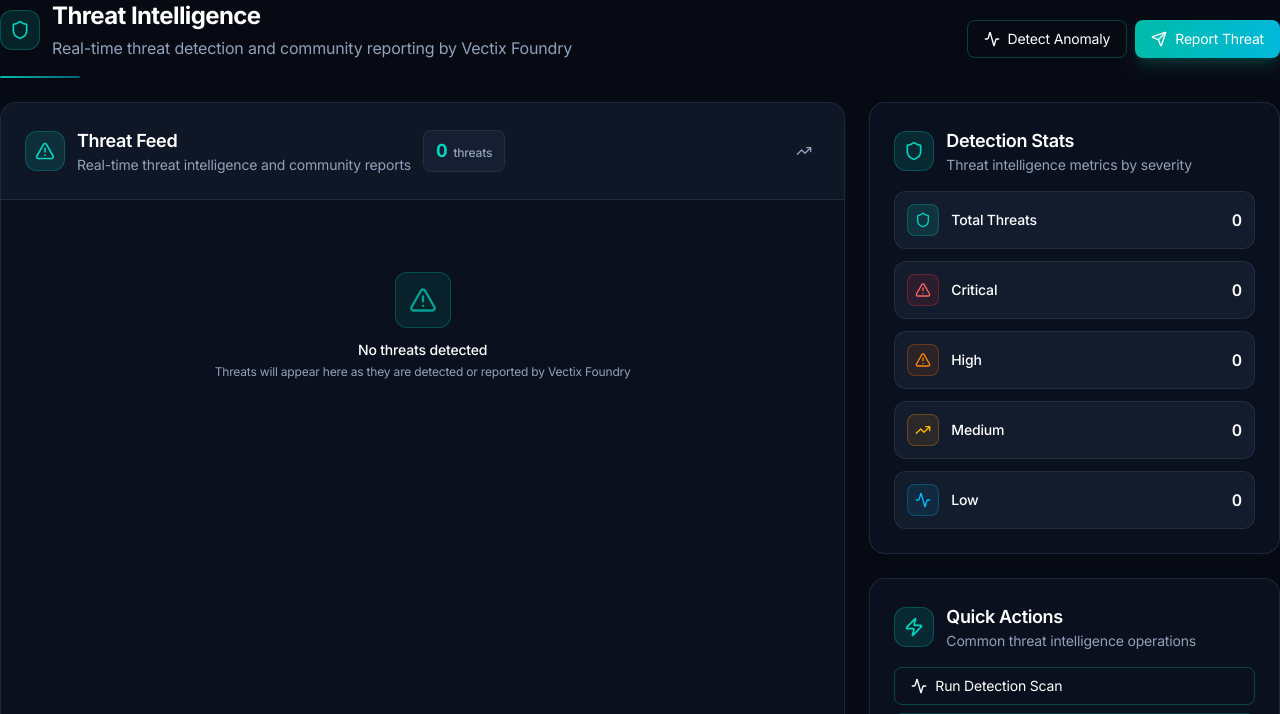
Test: ThreatIntelligencePage › displays no threat message when no anomaly is detected
Click the button "Detect Anomaly". click: (1047, 39)
box: [966,20,1127,58]
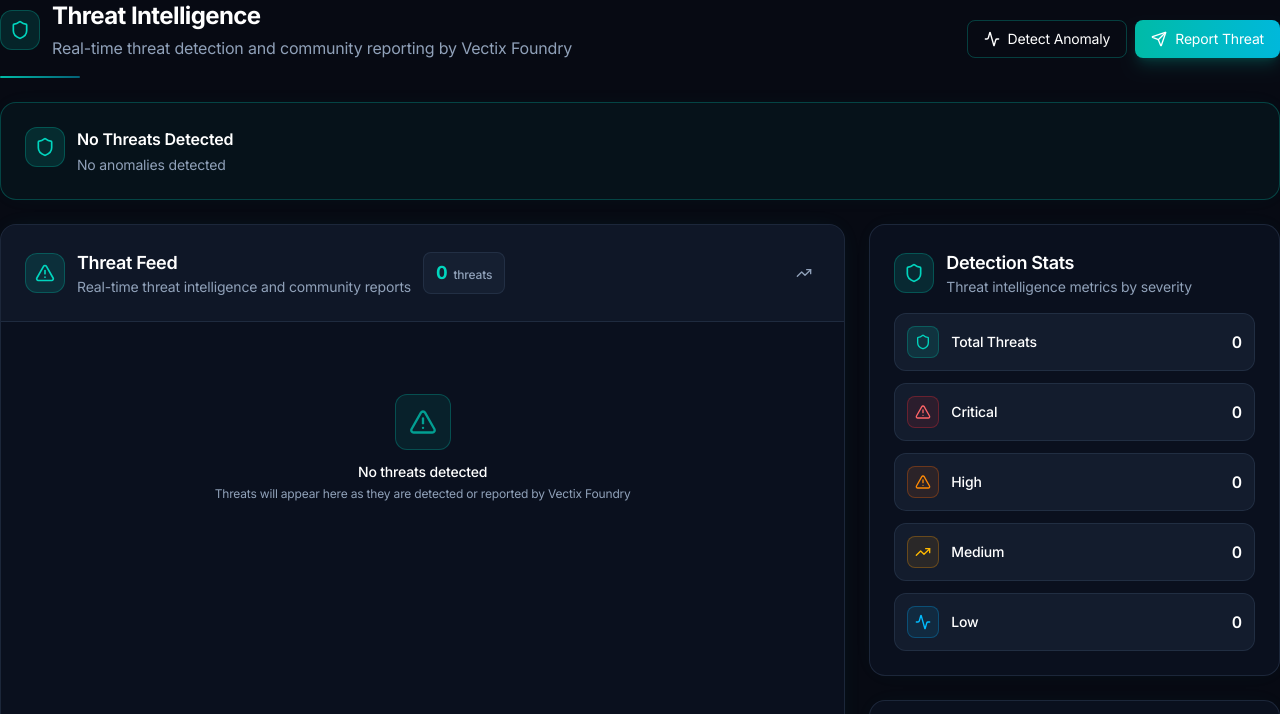
Expected: the text "No Threats Detected" is shown, [77,127,233,151]
Expected: the text "No anomalies detected" is shown, [77,156,226,173]
